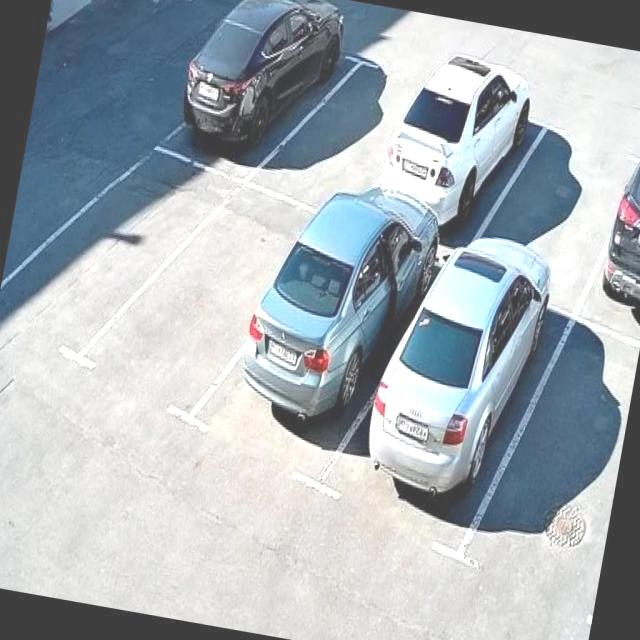car: (233, 185, 445, 480), (358, 256, 554, 546), (182, 0, 343, 199), (382, 61, 524, 256), (592, 110, 640, 335)
free: (28, 112, 205, 414), (119, 170, 315, 432), (486, 303, 640, 616), (470, 102, 636, 306), (287, 36, 424, 230)
